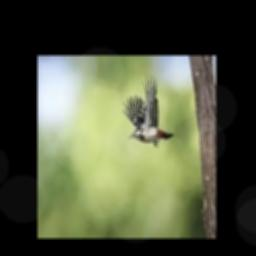Woodpecker: (121, 72, 173, 147)
